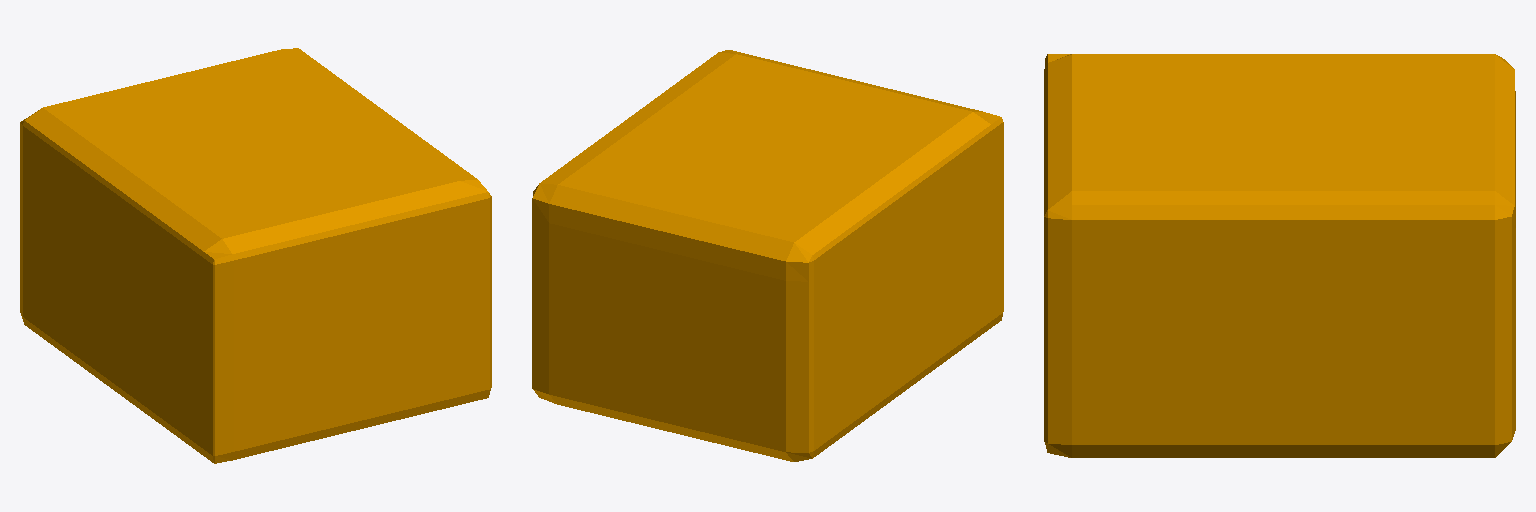
The robot description file, URDF, robot "cylinder_box_57":
<?xml version="1.0" encoding="utf-8"?>  <robot name="cylinder_box_57">   <link name="cylinder_box_57">     <visual>       <geometry>         <mesh filename="../meshes/box/box_57.stl" scale="1 1 1"/>       </geometry>     </visual>     <collision>       <geometry>         <mesh filename="../meshes/box/box_57.stl" scale="1 1 1"/>       </geometry>     </collision>     <inertial>        <origin         xyz="0 0 0"         rpy="0 0 0" />       <mass value="0.4175580735312027"/>       <origin rpy="0 0 0" xyz="0 0 0"/>       <inertia ixx="0.00042215066972000215" ixy="-3.4071626466585974e-07" ixz="-4.367284936584901e-08" iyy="0.0003188616120518689" iyz="-1.423410157225227e-07" izz="0.0005132620129802124"/>     </inertial>   </link>  </robot>

--- Facts derived from the render (not from the file) ---
The picture shows the robot from 3 angles, left to right: view 1: azimuth 30°, elevation 25°; view 2: azimuth 150°, elevation 25°; view 3: azimuth 270°, elevation 25°; orthographic projection.
Robot: cylinder_box_57 — 1 links, 0 joints (none); root link cylinder_box_57; default pose: all joints at 0.
Links seen in each view (by area): view 1: cylinder_box_57; view 2: cylinder_box_57; view 3: cylinder_box_57.
Boxes of the visible links, x1=… form: cylinder_box_57: x1=20, y1=48, x2=491, y2=463; cylinder_box_57: x1=532, y1=50, x2=1003, y2=461; cylinder_box_57: x1=1044, y1=54, x2=1515, y2=457.
Size in the robot's own frame: 0.0773 by 0.0948 by 0.0578 metres.
1 mesh visuals loaded from 1 distinct referenced files (1 binary STL).